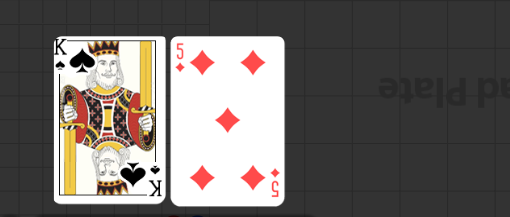5D: (269, 166, 281, 199)
KS: (53, 37, 68, 73)
